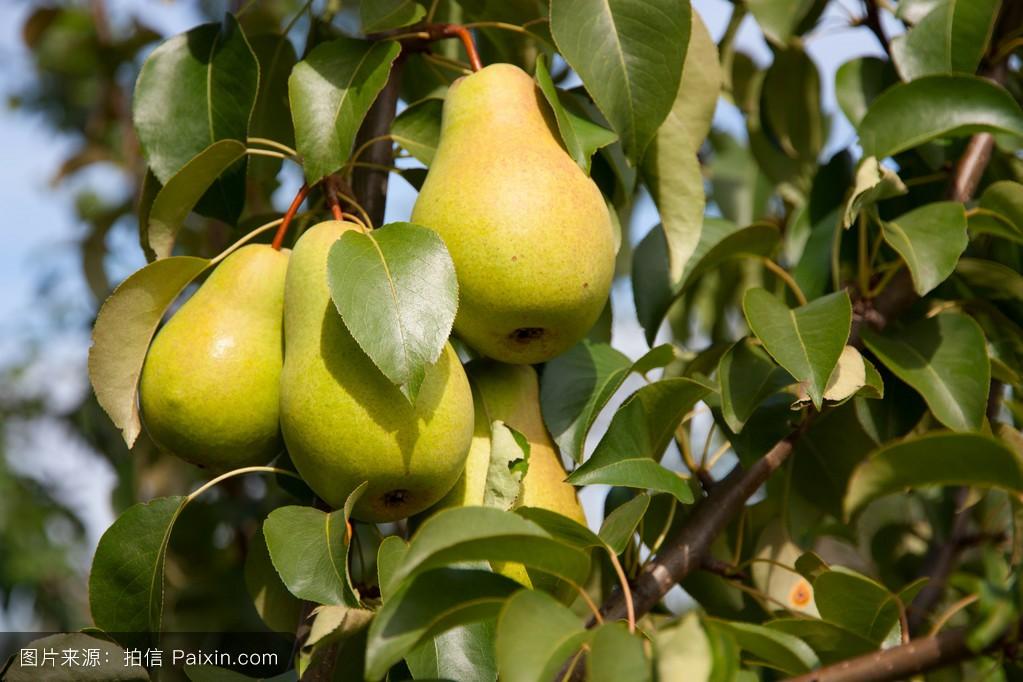pear: (414, 62, 615, 359), (277, 220, 475, 519), (414, 353, 594, 629), (146, 242, 300, 457)
